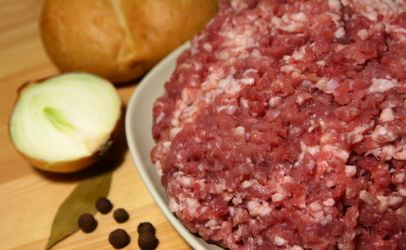ground_beef: (180, 19, 392, 233)
